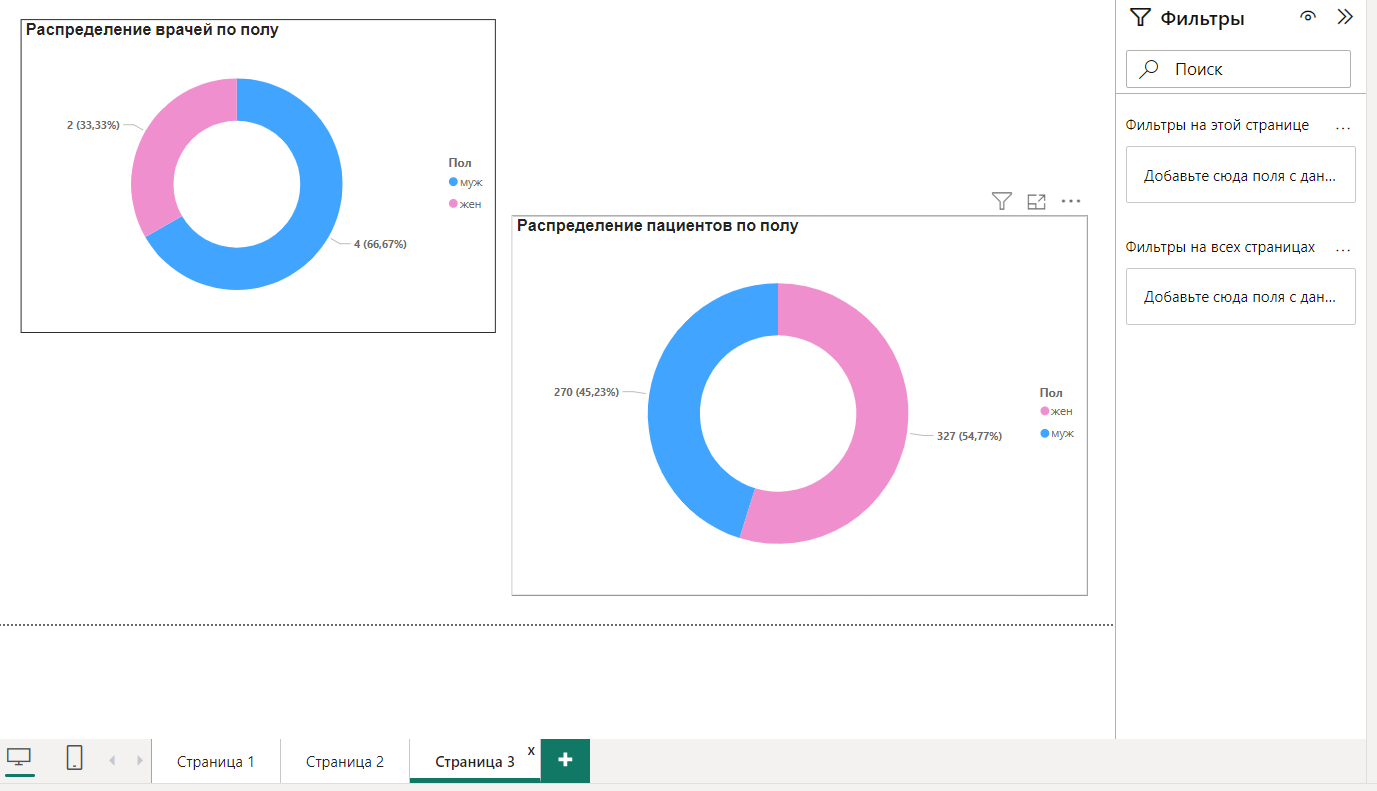

Layout of this report page (visuals, bound fields, positions):
{"tool":"powerbi","page":{"name":"Страница 3","canvas":[1280,720],"ordinal":2},"visuals":[{"type":"donutChart","title":"Распределение врачей по полу","fields":{"Category":["doctors.sex"],"Y":["doctors.name"]},"box":[32.8,29.9,541.6,357.8],"z":0},{"type":"donutChart","title":"Распределение пациентов по полу","fields":{"Category":["patients.sex"],"Y":["patients.id"]},"box":[593,253.7,655.7,433.3],"z":1}]}

Visuals, with their boxes on the page's 1280x720 design canvas (x1, y1, x2, y2). These are canvas units, not pixel positions in the 1377x791 screenshot, which may show the page scaled, cropped or inside an application window:
"Распределение врачей по полу" donutChart: [33, 30, 574, 388]
"Распределение пациентов по полу" donutChart: [593, 254, 1249, 687]
